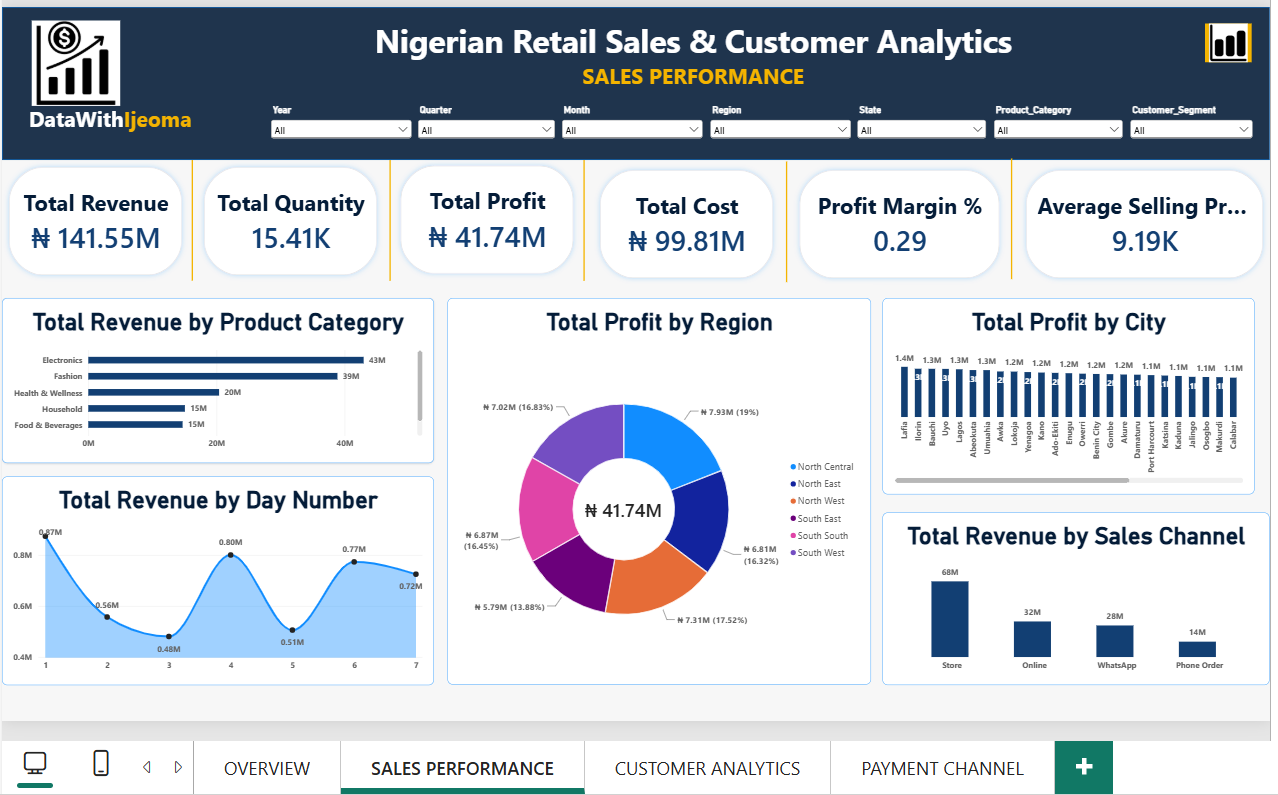

This screenshot's page, from the dashboard's own definition file:
{"tool":"powerbi","page":{"name":"SALES PERFORMANCE","canvas":[1920,1080],"ordinal":1},"visuals":[{"type":"shape","box":[0,0,1919.5,231.7],"z":0},{"type":"slicer","fields":{"Values":["Date.Year"]},"box":[402.6,148.7,223.1,59],"z":1000},{"type":"slicer","fields":{"Values":["Date.Quarter"]},"box":[625.6,148.7,217.9,59],"z":2000},{"type":"slicer","fields":{"Values":["Date.Month"]},"box":[843.6,148.7,223.1,59],"z":3000},{"type":"slicer","fields":{"Values":["States.Region"]},"box":[1066.7,148.7,223.1,59],"z":4000},{"type":"slicer","fields":{"Values":["States.State"]},"box":[1289.7,148.7,205.1,59],"z":5000},{"type":"slicer","fields":{"Values":["Products.Product_Category"]},"box":[1497.4,148.7,205.1,59],"z":6000},{"type":"slicer","fields":{"Values":["Customers.Customer_Segment"]},"box":[1702.6,148.7,194.9,59],"z":7000},{"type":"barChart","title":"Total Revenue by Product Category","fields":{"Category":["Products.Product_Category"],"Y":["_Measures.Total Revenue"]},"box":[0,440.6,654.1,249.8],"z":8000},{"type":"lineChart","title":"Total Revenue by Day Number","fields":{"Category":["Date.Day Number"],"Y":["_Measures.Total Revenue"]},"box":[0,710.9,654.1,315.7],"z":9000},{"type":"donutChart","title":"Total Profit by Region","fields":{"Series":["States.Region"],"Y":["_Measures.Total Profit"]},"box":[675.6,441.5,641.5,585.4],"z":10000},{"type":"columnChart","title":"Total Revenue by Sales Channel","fields":{"Category":["Transactions.Sales_Channel"],"Y":["_Measures.Total Revenue"]},"box":[1333.3,765.4,586,261.2],"z":11000},{"type":"cardVisual","fields":{"Data":["_Measures.Total Revenue"]},"box":[0,231.7,283.3,185.4],"z":12000},{"type":"textbox","box":[175.6,17.1,1743.9,114.6],"z":13000},{"type":"textbox","box":[40.9,147.6,268,59.1],"z":14000},{"type":"image","box":[1822,24.4,70.7,58.5],"z":15000},{"type":"image","box":[36.6,19.5,151.2,129.3],"z":16000},{"type":"shape","box":[258.5,231.7,58.5,182.9],"z":17000},{"type":"shape","box":[563.4,231.7,48.8,182.9],"z":18000},{"type":"shape","box":[863.4,231.7,36.6,182.9],"z":19000},{"type":"cardVisual","fields":{"Data":["_Measures.Total Quantity"]},"box":[295.1,231.7,283.3,185.4],"z":20000},{"type":"cardVisual","fields":{"Data":["_Measures.Total Profit"]},"box":[592.7,229.3,283.3,185.4],"z":21000},{"type":"cardVisual","fields":{"Data":["_Measures.Total Cost"]},"box":[895.1,236.6,283.3,185.4],"z":22000},{"type":"cardVisual","fields":{"Data":["_Measures.Profit Margin %"]},"box":[1197.6,236.6,324.4,185.4],"z":23000},{"type":"cardVisual","fields":{"Data":["_Measures.Average Selling Price"]},"box":[1539,236.6,380.5,185.4],"z":24000},{"type":"shape","box":[1170.7,234.1,36.6,182.9],"z":25000},{"type":"shape","box":[1509.8,229.3,36.6,182.9],"z":26000},{"type":"columnChart","fields":{"Category":["Transactions.City"],"Y":["_Measures.Total Profit"]},"box":[1334.1,441.5,563.4,297.6],"z":27000}]}

Visuals, with their boxes on the page's 1920x1080 design canvas (x1, y1, x2, y2). These are canvas units, not pixel positions in the 1278x795 screenshot, which may show the page scaled, cropped or inside an application window:
shape: pyautogui.locateOnScreen(0, 0, 1920, 232)
slicer - Date.Year: pyautogui.locateOnScreen(403, 149, 626, 208)
slicer - Date.Quarter: pyautogui.locateOnScreen(626, 149, 844, 208)
slicer - Date.Month: pyautogui.locateOnScreen(844, 149, 1067, 208)
slicer - States.Region: pyautogui.locateOnScreen(1067, 149, 1290, 208)
slicer - States.State: pyautogui.locateOnScreen(1290, 149, 1495, 208)
slicer - Products.Product_Category: pyautogui.locateOnScreen(1497, 149, 1702, 208)
slicer - Customers.Customer_Segment: pyautogui.locateOnScreen(1703, 149, 1898, 208)
"Total Revenue by Product Category" barChart: pyautogui.locateOnScreen(0, 441, 654, 690)
"Total Revenue by Day Number" lineChart: pyautogui.locateOnScreen(0, 711, 654, 1027)
"Total Profit by Region" donutChart: pyautogui.locateOnScreen(676, 442, 1317, 1027)
"Total Revenue by Sales Channel" columnChart: pyautogui.locateOnScreen(1333, 765, 1919, 1027)
cardVisual - _Measures.Total Revenue: pyautogui.locateOnScreen(0, 232, 283, 417)
textbox: pyautogui.locateOnScreen(176, 17, 1920, 132)
textbox: pyautogui.locateOnScreen(41, 148, 309, 207)
image: pyautogui.locateOnScreen(1822, 24, 1893, 83)
image: pyautogui.locateOnScreen(37, 20, 188, 149)
shape: pyautogui.locateOnScreen(258, 232, 317, 415)
shape: pyautogui.locateOnScreen(563, 232, 612, 415)
shape: pyautogui.locateOnScreen(863, 232, 900, 415)
cardVisual - _Measures.Total Quantity: pyautogui.locateOnScreen(295, 232, 578, 417)
cardVisual - _Measures.Total Profit: pyautogui.locateOnScreen(593, 229, 876, 415)
cardVisual - _Measures.Total Cost: pyautogui.locateOnScreen(895, 237, 1178, 422)
cardVisual - _Measures.Profit Margin %: pyautogui.locateOnScreen(1198, 237, 1522, 422)
cardVisual - _Measures.Average Selling Price: pyautogui.locateOnScreen(1539, 237, 1920, 422)
shape: pyautogui.locateOnScreen(1171, 234, 1207, 417)
shape: pyautogui.locateOnScreen(1510, 229, 1546, 412)
columnChart - Transactions.City x _Measures.Total Profit: pyautogui.locateOnScreen(1334, 442, 1898, 739)
